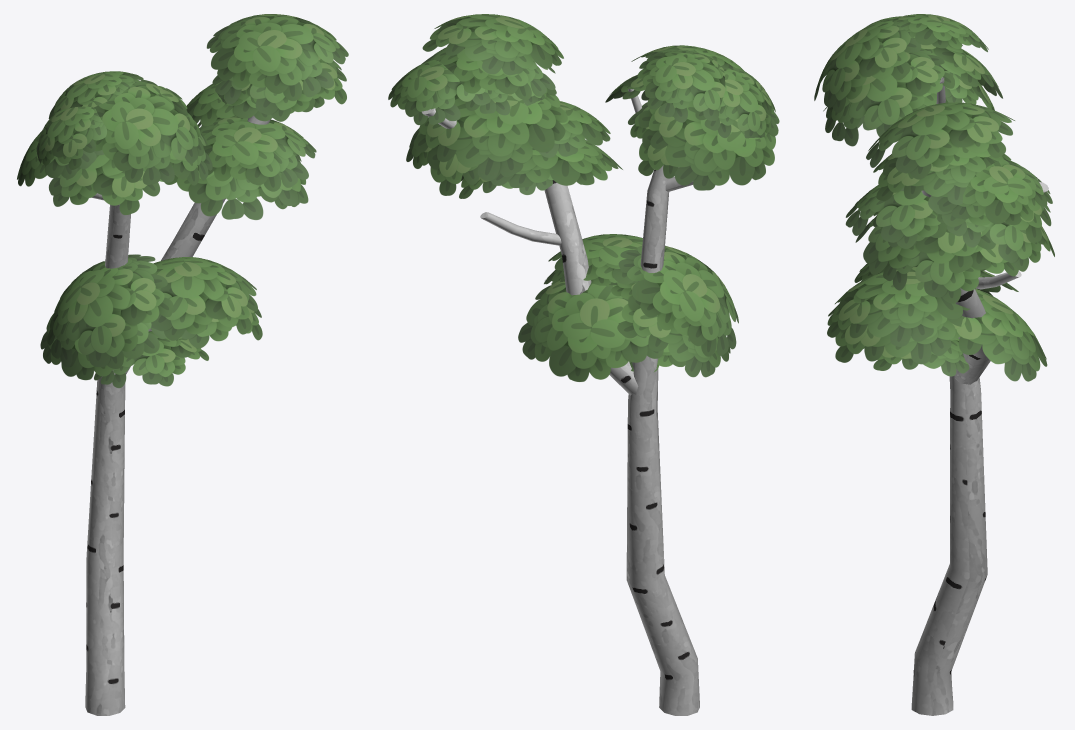
File: Birch_2.glb
The picture shows the model from 3 angles, left to right: view 1: azimuth 30°, elevation 25°; view 2: azimuth 150°, elevation 25°; view 3: azimuth 270°, elevation 25°; orthographic projection. The views are drawn at different scales.
Parts seen in each view (by area): view 1: Birch_2_Leaves, Birch_2; view 2: Birch_2_Leaves, Birch_2; view 3: Birch_2_Leaves, Birch_2.
Part boxes in pixels (<box>): Birch_2_Leaves: <box>17,14,348,387</box>; Birch_2: <box>85,115,270,715</box>; Birch_2_Leaves: <box>388,14,779,381</box>; Birch_2: <box>422,89,699,715</box>; Birch_2_Leaves: <box>814,14,1054,381</box>; Birch_2: <box>911,77,1048,715</box>.
Size of the model in its own units: 5.03 by 8.87 by 2.88.
2 materials, 2 textured.
